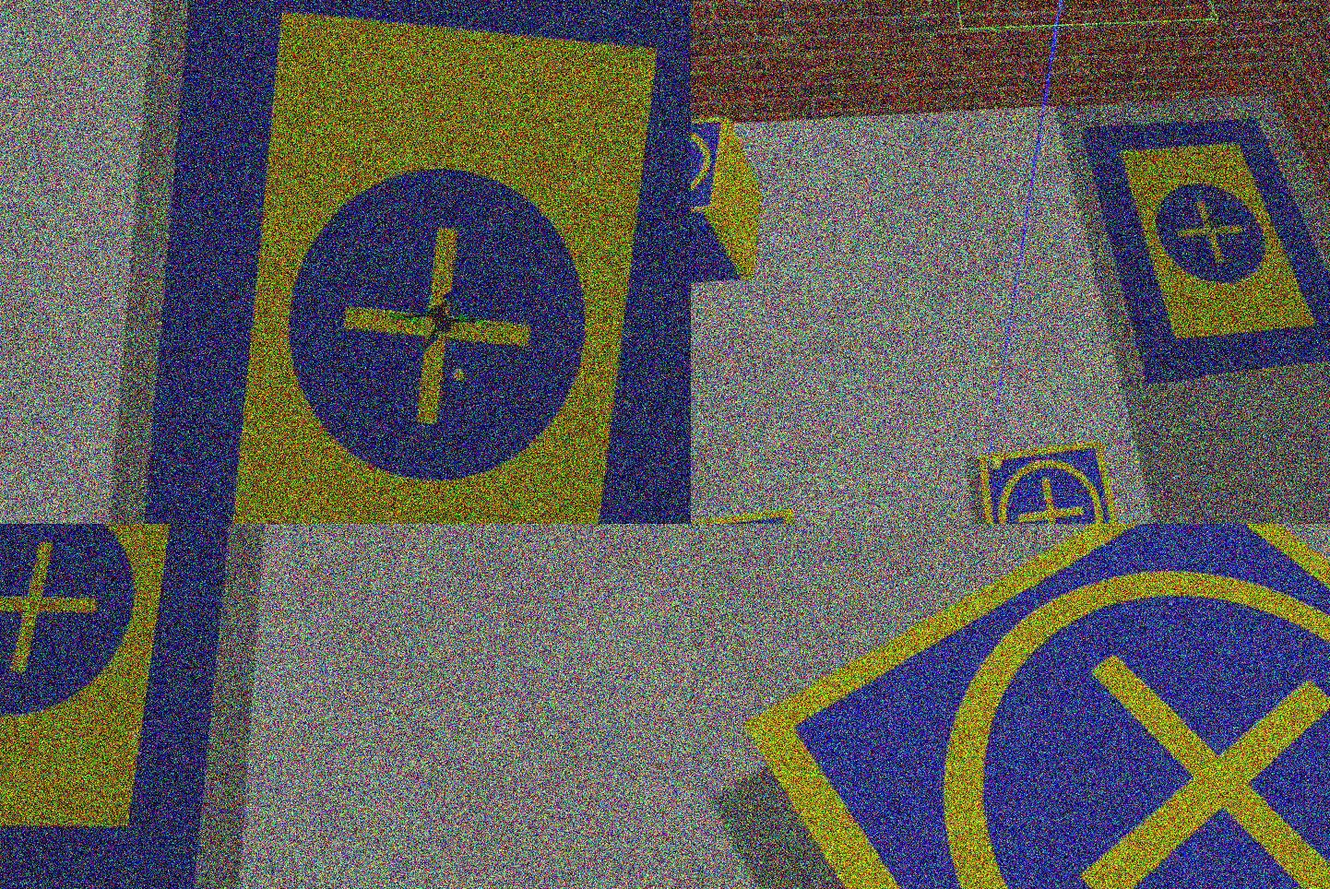large_base: (105, 1, 692, 524), (1, 524, 257, 889), (1050, 96, 1330, 413)
small_base: (705, 524, 1330, 889), (961, 426, 1146, 524), (692, 102, 730, 243), (692, 488, 798, 524)
